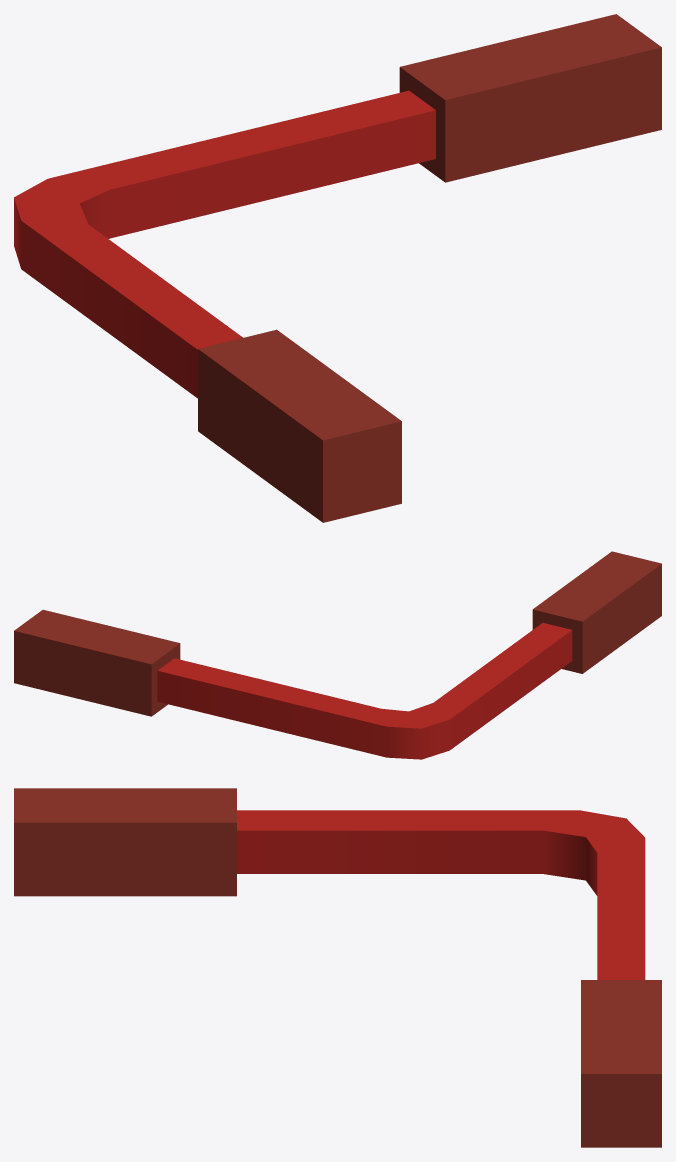
The model's file is Cable_E_2_2.fbx.
The picture shows the model from 3 angles, top to bottom: view 1: azimuth 30°, elevation 25°; view 2: azimuth 150°, elevation 25°; view 3: azimuth 270°, elevation 25°; orthographic projection. The views are drawn at different scales.
Parts seen in each view (by area): view 1: Cable_E_2_2; view 2: Cable_E_2_2; view 3: Cable_E_2_2.
Part boxes in pixels (box(x1,y1,x2,y2)): Cable_E_2_2: box(14, 14, 661, 522); Cable_E_2_2: box(14, 551, 661, 759); Cable_E_2_2: box(14, 788, 661, 1147).
Size of the model in its own units: 81.88 by 9.83 by 78.5.
